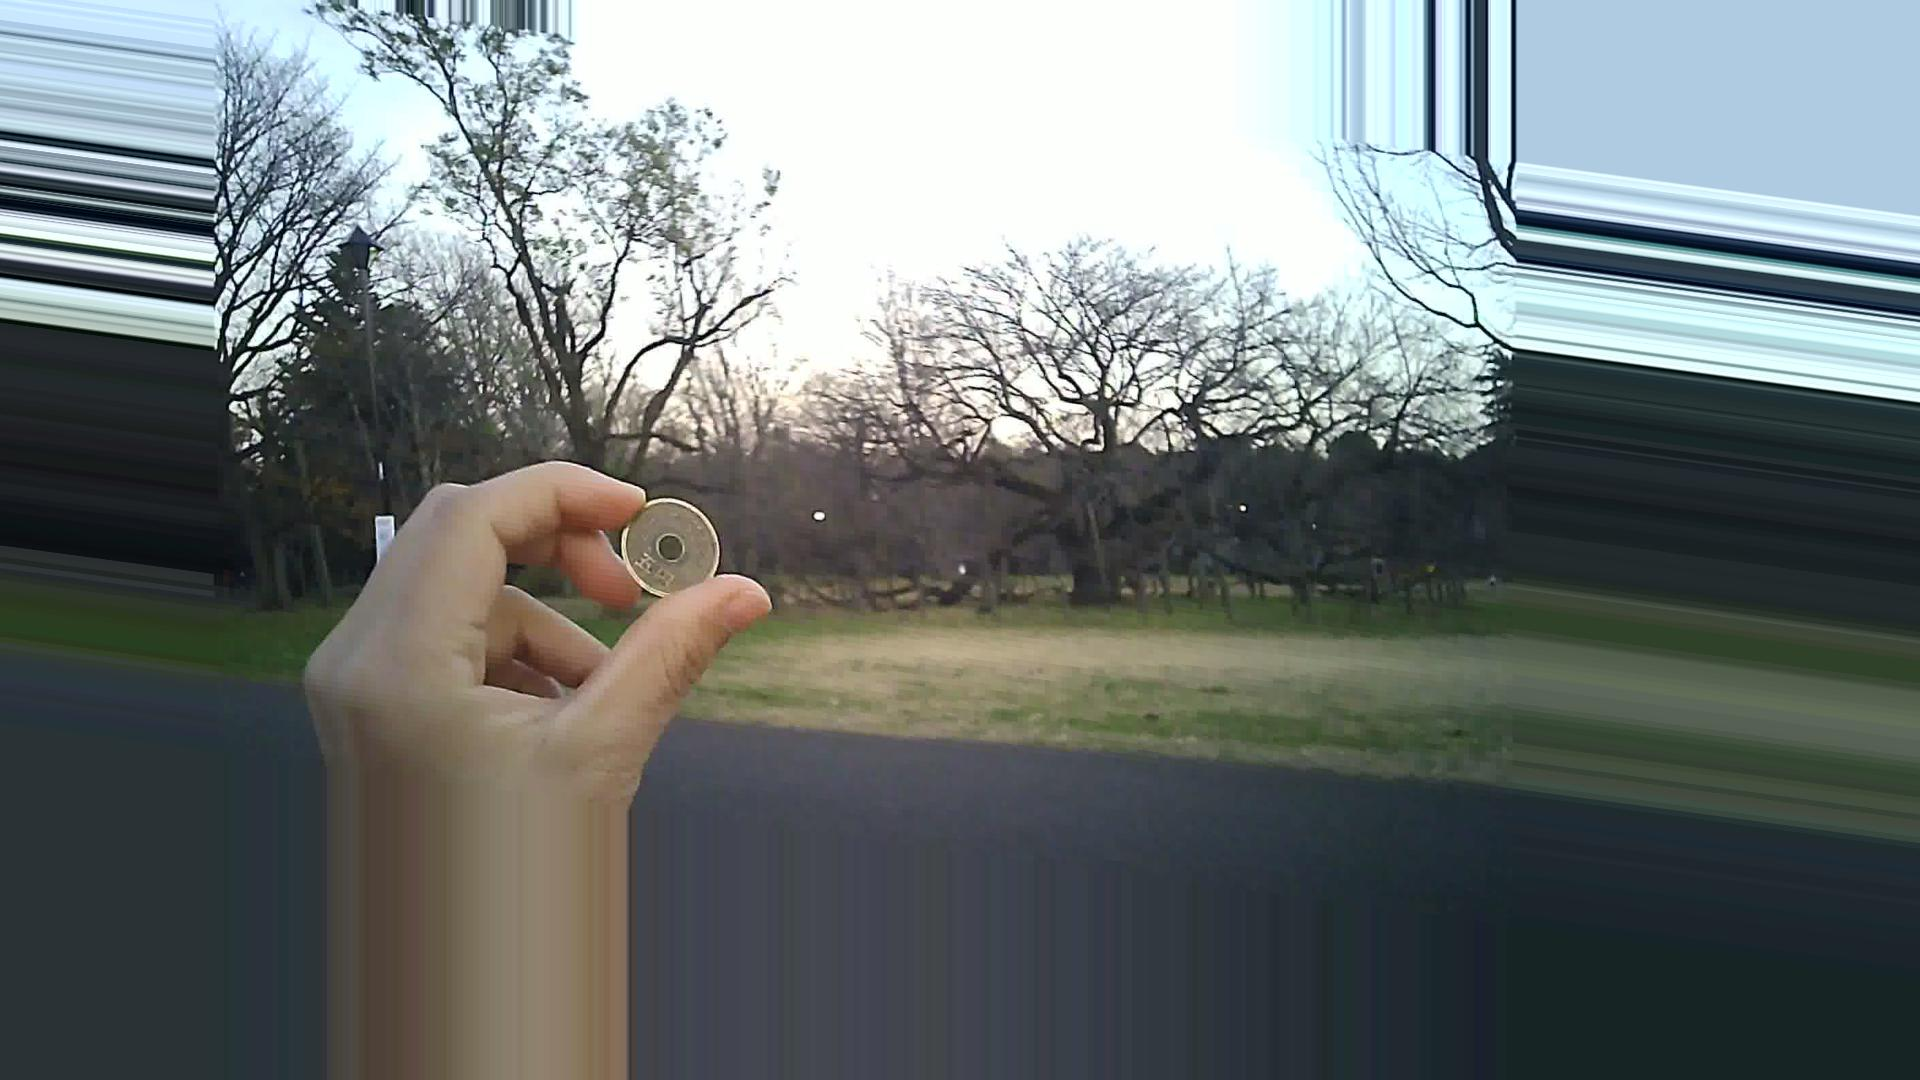5 Yen: (622, 488, 725, 613)
